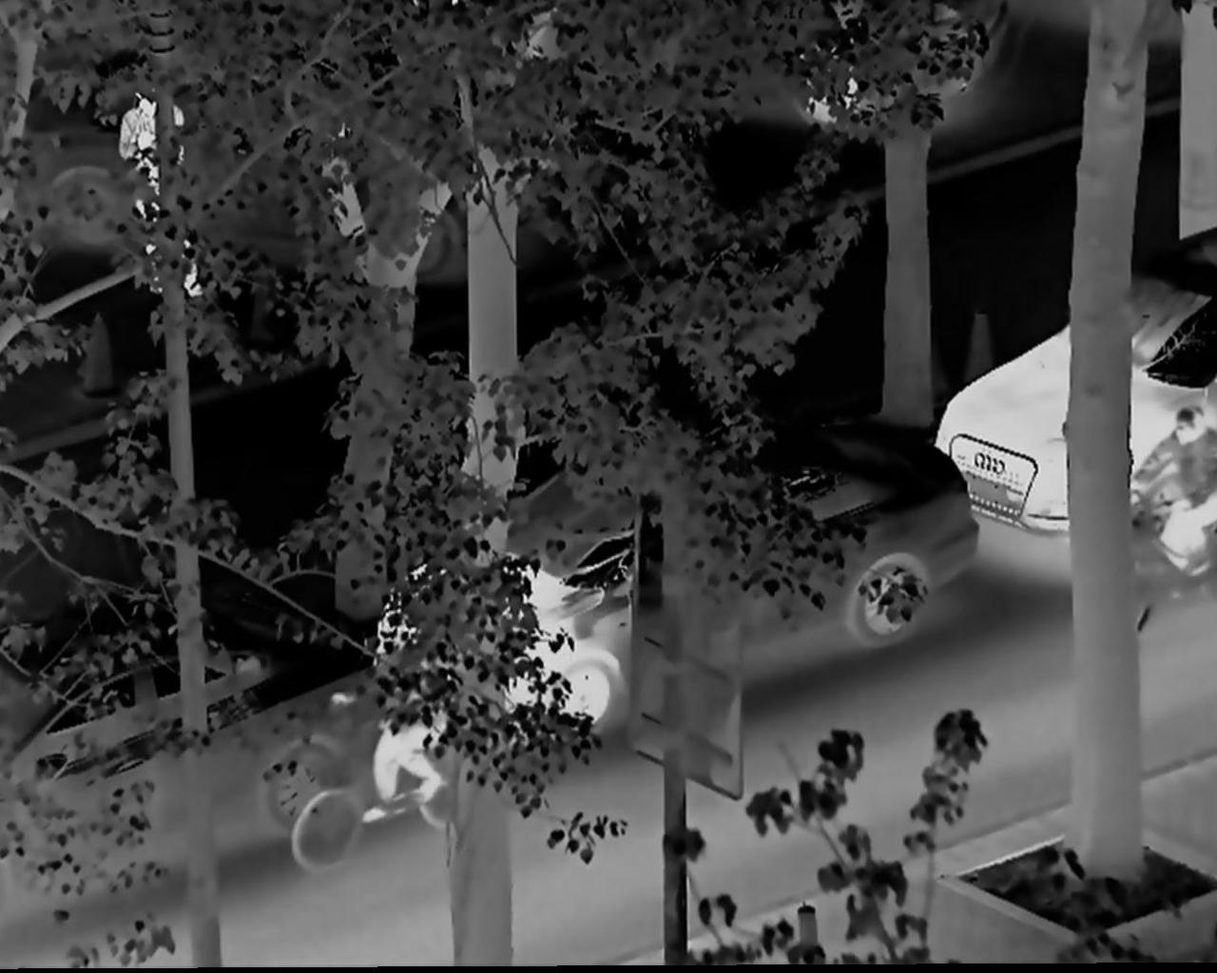person: (326, 609, 454, 834), (119, 91, 207, 306), (1136, 398, 1217, 572)
